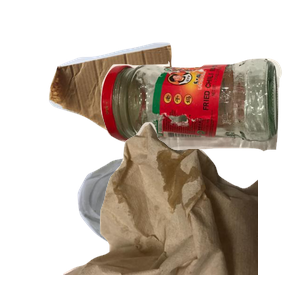cardboard: (46, 40, 226, 179)
glass: (98, 56, 300, 201)
plastic: (75, 154, 248, 300)
trash: (60, 120, 300, 300)
